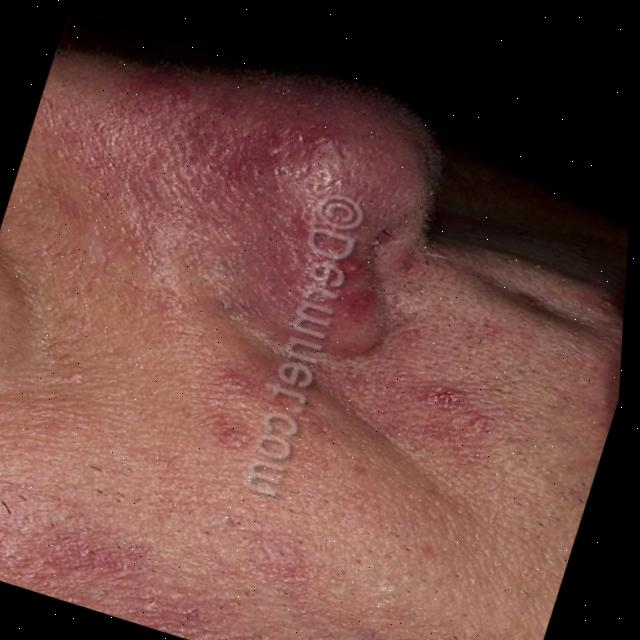Rosacea: (22, 2, 430, 348), (0, 450, 237, 640)
